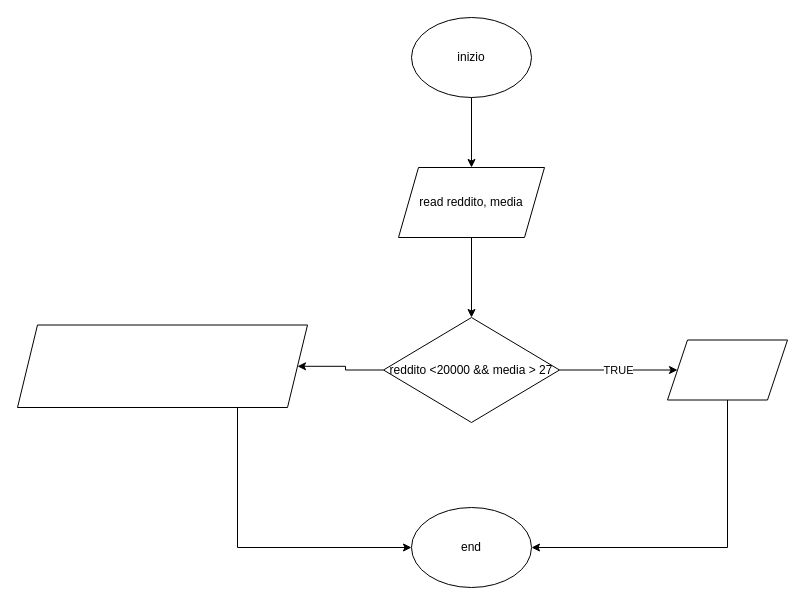
The diagram is 805 pixels wide and 605 high, and some of its shapes have lost their labels. Each missing label, with the centre of its shape:
Write "BORSA APPROVATA": (727,369)
Write "BORSA DI STUDIO RIFIUTATA. media o reddito non sufficenti": (162,366)
